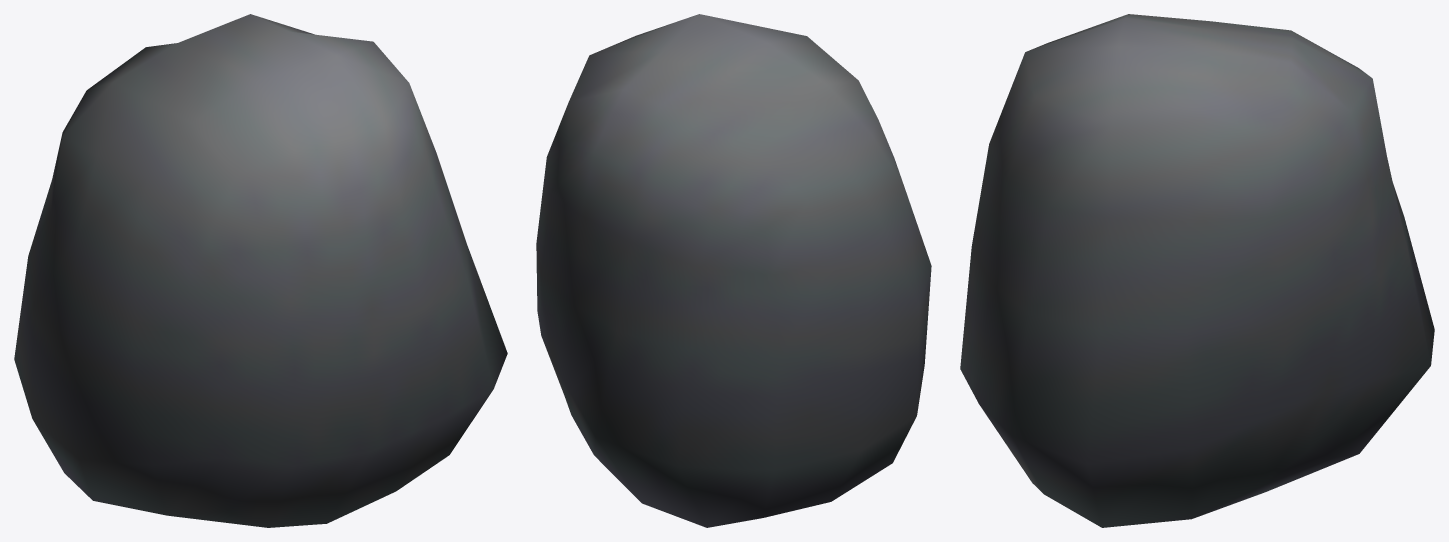
Rendered from M_Environment_StoneSS_03.fbx.
3 renders of one model, left to right at view 1: azimuth 30°, elevation 25°; view 2: azimuth 150°, elevation 25°; view 3: azimuth 270°, elevation 25°, orthographic. The views are drawn at different scales.
Visible parts, largest first — view 1: M_Environment_StoneSS_03; view 2: M_Environment_StoneSS_03; view 3: M_Environment_StoneSS_03.
Boxes of the visible parts, x1,y1,x2,y2 form: M_Environment_StoneSS_03: [14, 14, 507, 527]; M_Environment_StoneSS_03: [536, 14, 931, 527]; M_Environment_StoneSS_03: [960, 14, 1434, 527].
Size of the model in its own units: 125 by 128 by 121.
1 material, 1 textured.
